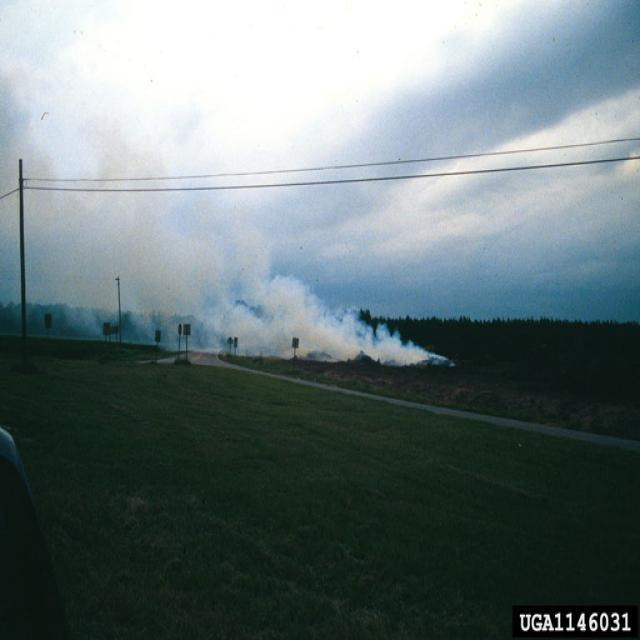Smoke: (0, 113, 455, 366)
